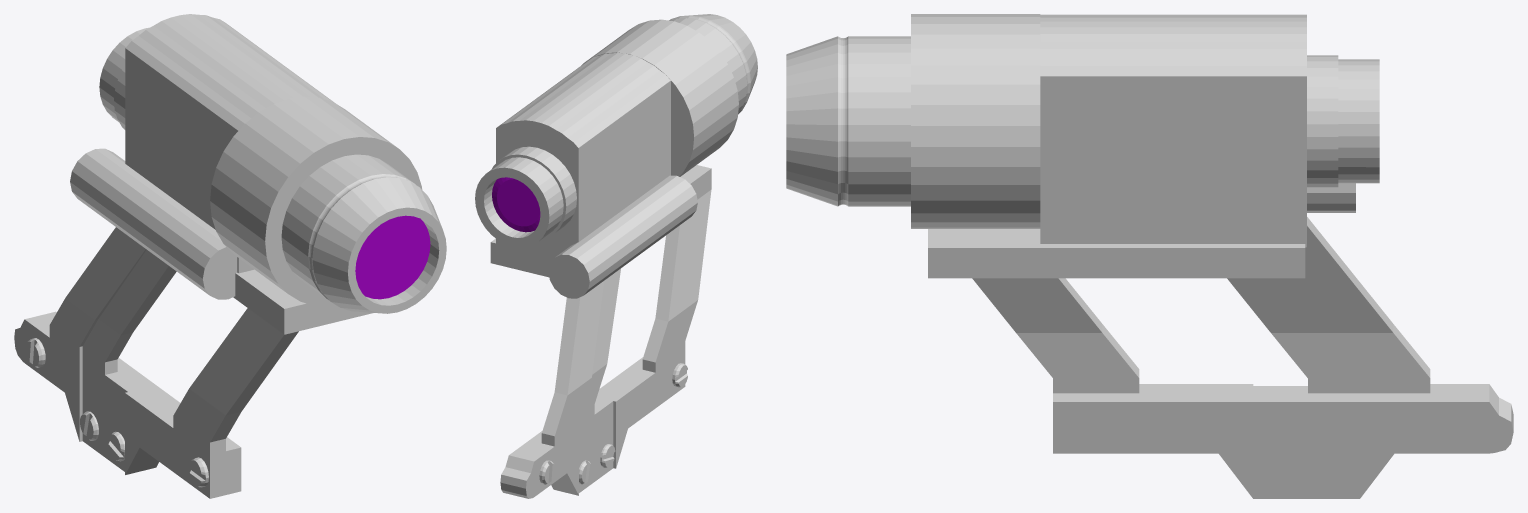
File: 4x_scope_ru.fbx
The picture shows the model from 3 angles, left to right: view 1: azimuth 30°, elevation 25°; view 2: azimuth 150°, elevation 25°; view 3: azimuth 270°, elevation 25°; orthographic projection. The views are drawn at different scales.
Parts seen in each view (by area): view 1: Cube; view 2: Cube; view 3: Cube.
Boxes of the visible parts, <box> form: Cube: <box>14,14,446,498</box>; Cube: <box>475,14,757,498</box>; Cube: <box>786,14,1513,498</box>.
Bounding box in the file's own units: 3.29 × 10.72 × 8.12.
